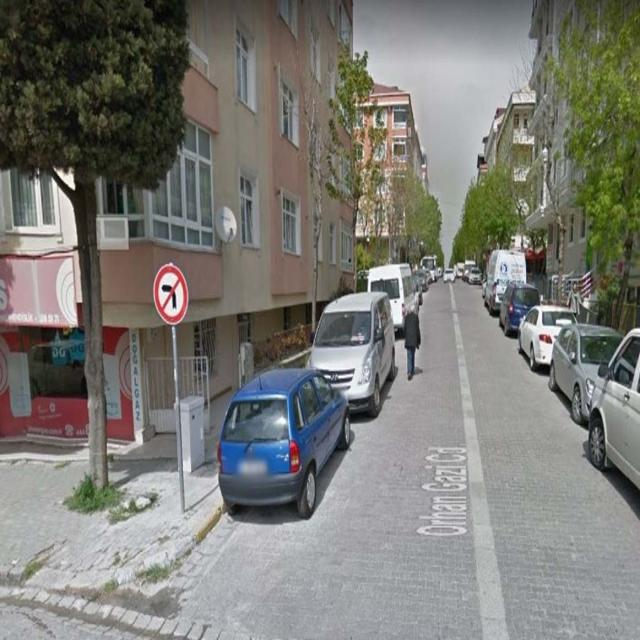soladonulmez: (153, 264, 189, 326)
